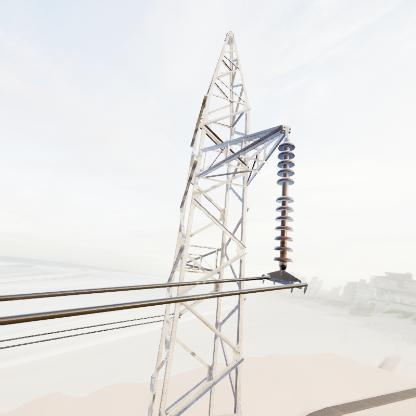insulator: (270, 138, 300, 272)
